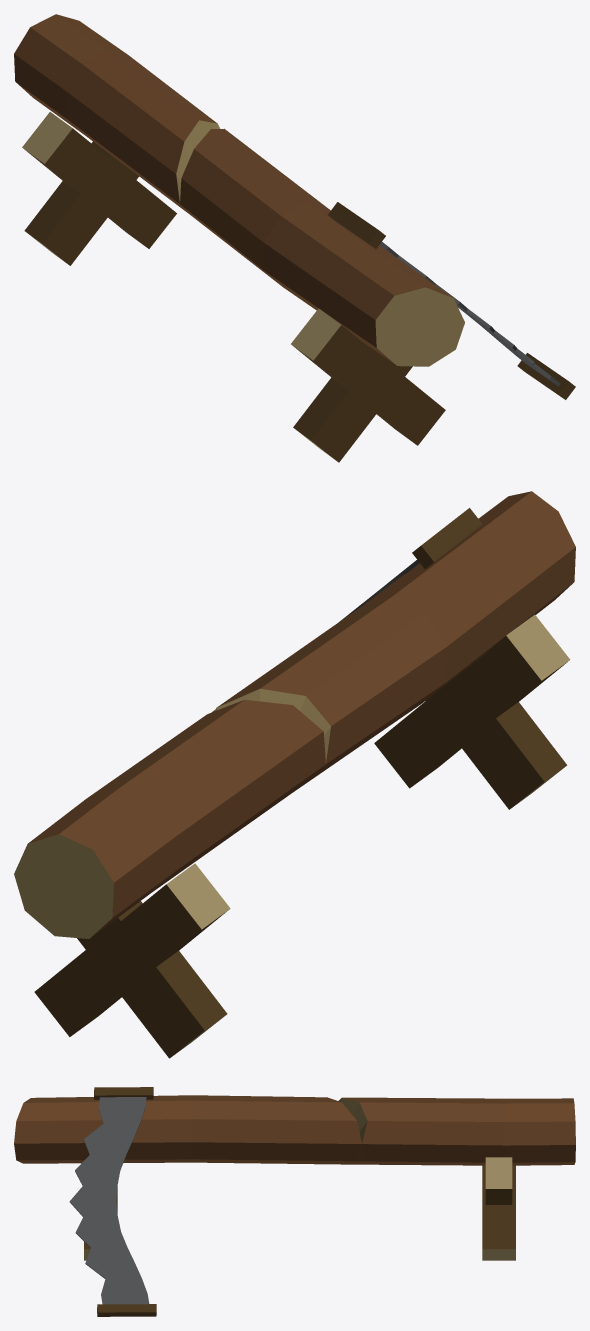
The model's file is quaternius-medieval-village-sawmill-saw.glb.
3 renders of one model, top to bottom at view 1: azimuth 30°, elevation 25°; view 2: azimuth 150°, elevation 25°; view 3: azimuth 270°, elevation 25°, orthographic. The views are drawn at different scales.
Visible parts, largest first — view 1: Sawmill_saw; view 2: Sawmill_saw; view 3: Sawmill_saw.
Boxes of the visible parts, x1,y1,x2,y2 form: Sawmill_saw: (14, 14, 575, 462); Sawmill_saw: (14, 491, 575, 1058); Sawmill_saw: (14, 1087, 575, 1316).
Size of the model in its own units: 0.7052 by 0.5415 by 1.7.
Materials: 1 (1 with a texture image).
